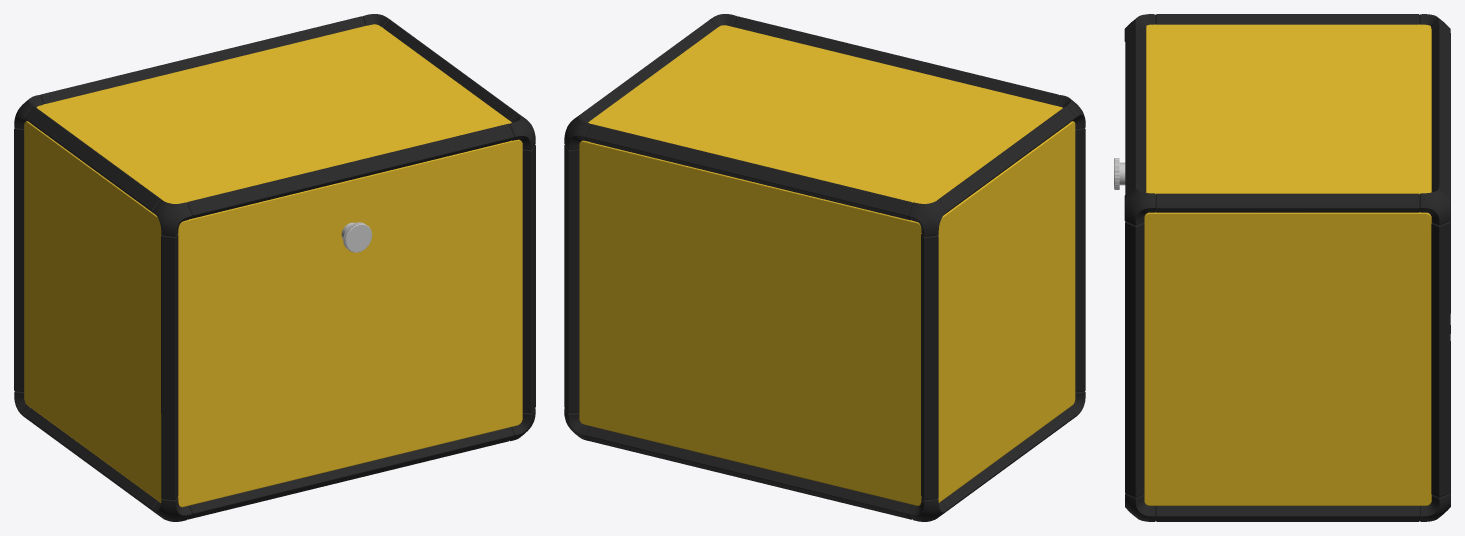
The picture shows the model from 3 angles, left to right: view 1: azimuth 30°, elevation 25°; view 2: azimuth 150°, elevation 25°; view 3: azimuth 270°, elevation 25°; orthographic projection. The views are drawn at different scales.
Visible parts, largest first — view 1: 479x329x374; view 2: 479x329x374; view 3: 479x329x374.
Boxes of the visible parts, x1=… form: 479x329x374: x1=14, y1=14, x2=535, y2=521; 479x329x374: x1=564, y1=14, x2=1085, y2=521; 479x329x374: x1=1114, y1=14, x2=1450, y2=521.
Bounding box in the file's own units: 0.5567 × 0.4517 × 0.4196.
